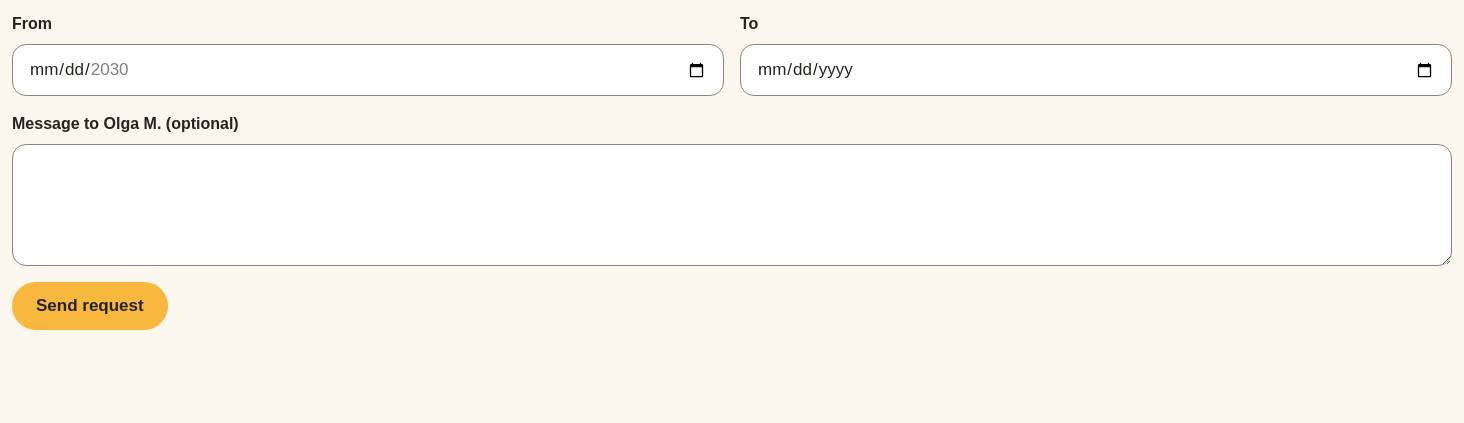
RequestLoanForm › formError stale reads its sentence
The width and height of the screenshot is (1464, 423).
Click the button "Send request". click: click(90, 306)
box: [12,282,168,330]
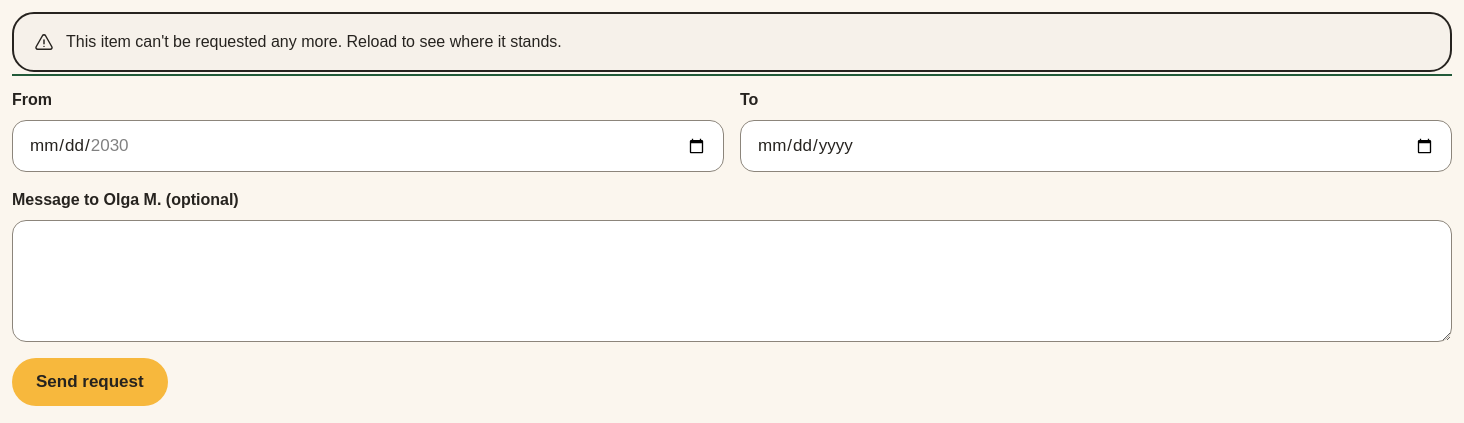
Check: the text "This item can't be requested any more. Reload to see where it stands." is shown, box [66,33,562,50]
